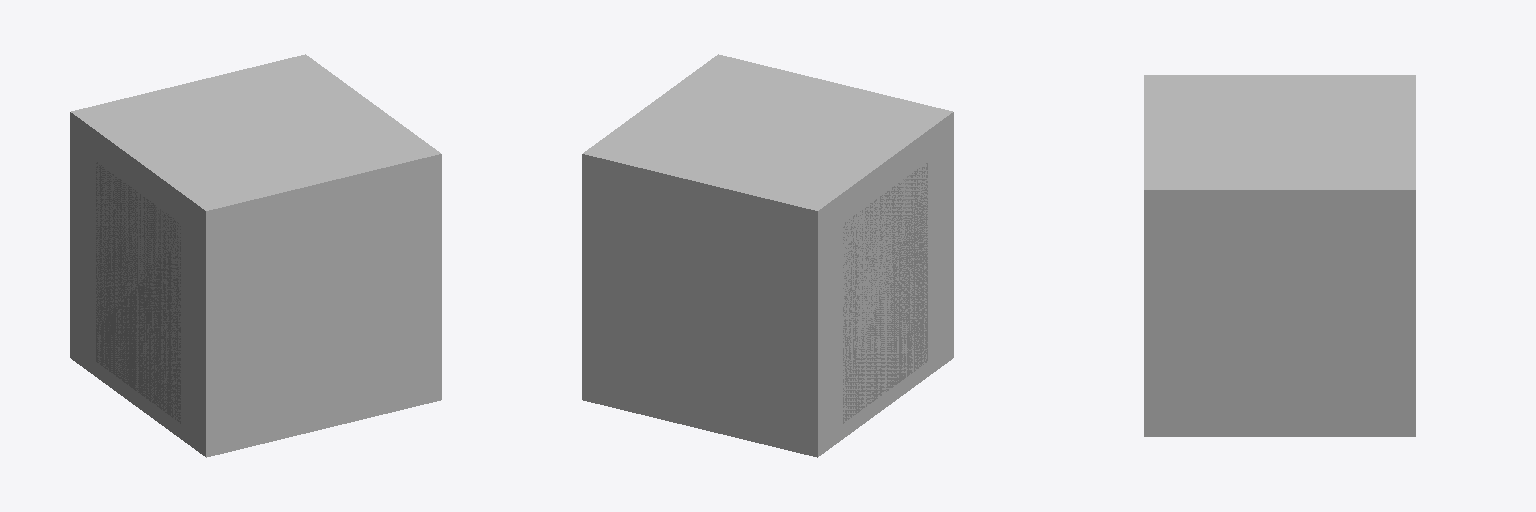
3 renders of one model, left to right at view 1: azimuth 30°, elevation 25°; view 2: azimuth 150°, elevation 25°; view 3: azimuth 270°, elevation 25°, orthographic.
Visible parts, largest first — view 1: Minecraft_Block_Cube, Minecraft_2_Edge_Connectivity_Cube.002, main; view 2: Minecraft_Block_Cube, Minecraft_2_Edge_Connectivity_Cube.002, main; view 3: Minecraft_Block_Cube, Minecraft_2_Edge_Connectivity_Cube.002.
Boxes of the visible parts, x1,y1,x2,y2 form: Minecraft_Block_Cube: [71, 54, 441, 457]; Minecraft_2_Edge_Connectivity_Cube.002: [70, 112, 255, 456]; main: [96, 162, 180, 423]; Minecraft_Block_Cube: [582, 54, 952, 457]; Minecraft_2_Edge_Connectivity_Cube.002: [768, 112, 953, 456]; main: [843, 163, 927, 423]; Minecraft_Block_Cube: [1144, 75, 1415, 436]; Minecraft_2_Edge_Connectivity_Cube.002: [1146, 75, 1414, 132].
Size of the model in its own units: 1 by 1 by 1.
Materials: 2 (1 with a texture image).